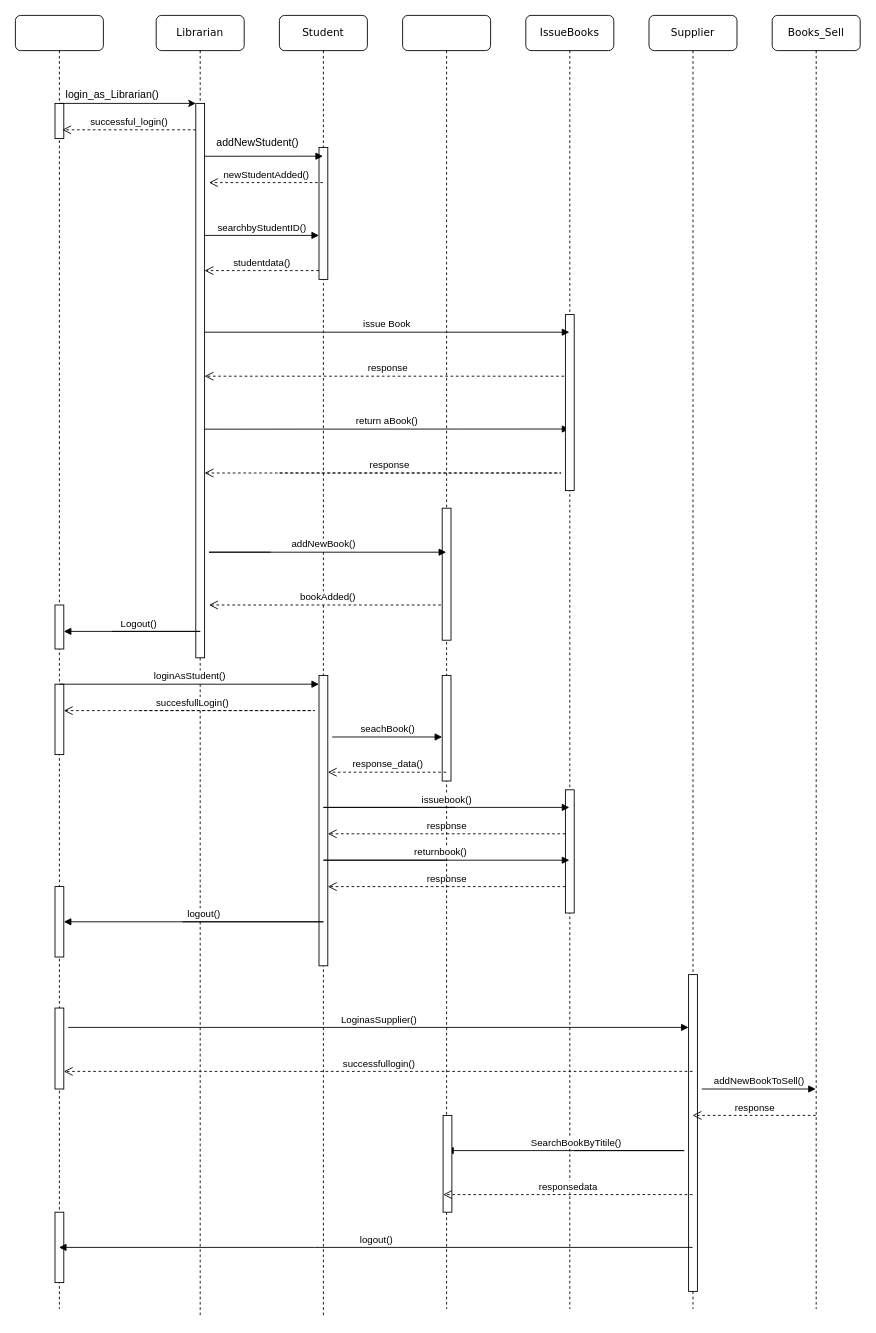
Image size: 876x1333. Some labels were removed from this diagram. The box of each missing label's shape, as (x1, y1, x2, y2) in pixels:
Books: (402, 15, 491, 1309)
Login: (15, 15, 103, 1309)
